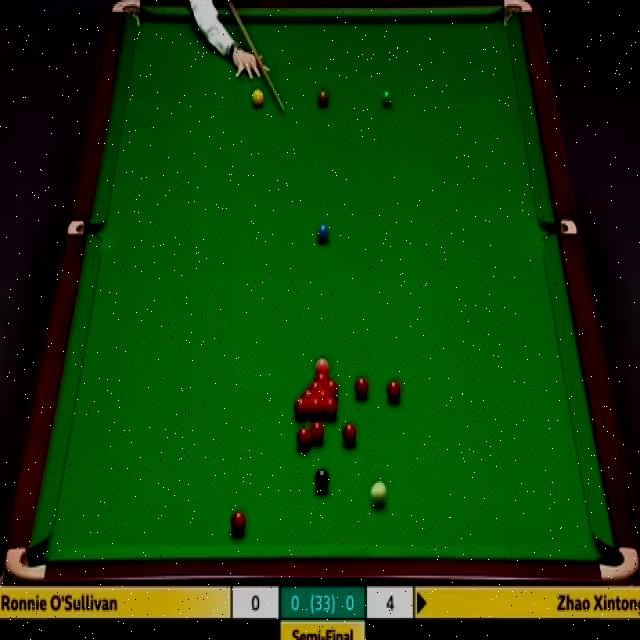black-ball: (313, 469, 330, 490)
blue-ball: (328, 236, 341, 259)
brown-ball: (316, 90, 331, 108)
green-ball: (378, 90, 394, 108)
pink-ball: (531, 354, 547, 382)
red-ball: (366, 381, 382, 408), (542, 388, 557, 414), (332, 411, 347, 435), (512, 376, 528, 398), (236, 353, 250, 378), (405, 328, 419, 352), (288, 305, 304, 326), (305, 394, 319, 418), (316, 426, 330, 449), (319, 407, 334, 428), (309, 378, 322, 400)
white-ball: (248, 197, 261, 225)
yellow-ball: (200, 62, 214, 84)
